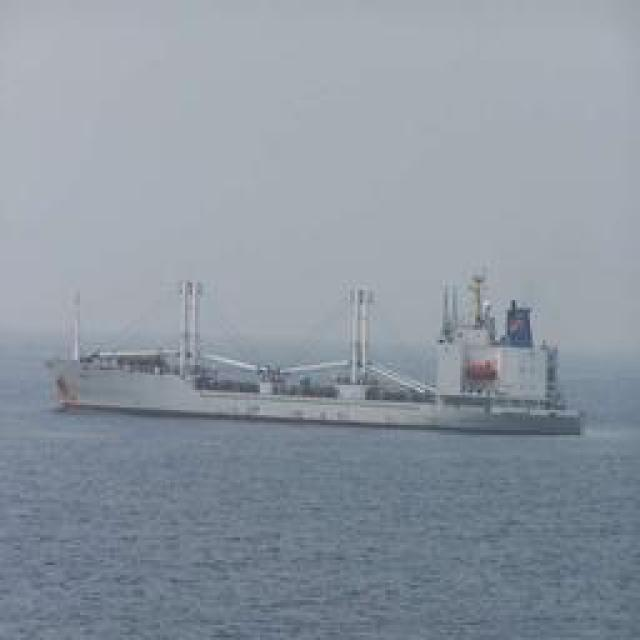Ship: (31, 275, 579, 438)
